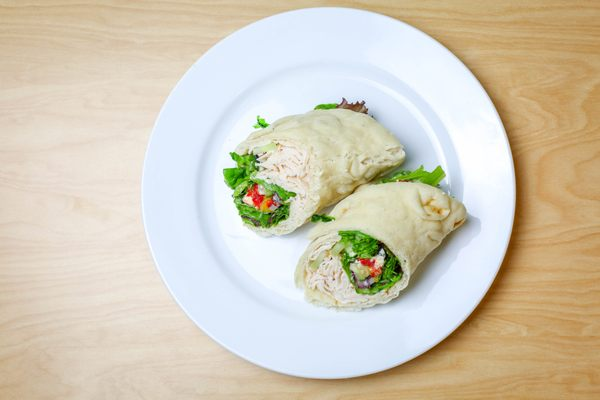curry: (3, 1, 594, 394)
